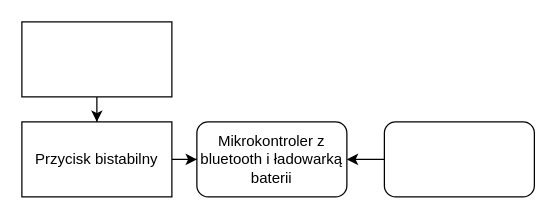
Image size: 556x219. Some labels were removed from this diagram. Here are the shapes that lost their labels. From the top down, the box of each, then its label:
(21, 21, 172, 97): Akumulator
(383, 121, 534, 197): Czujnik tętna i saturacji krwi
